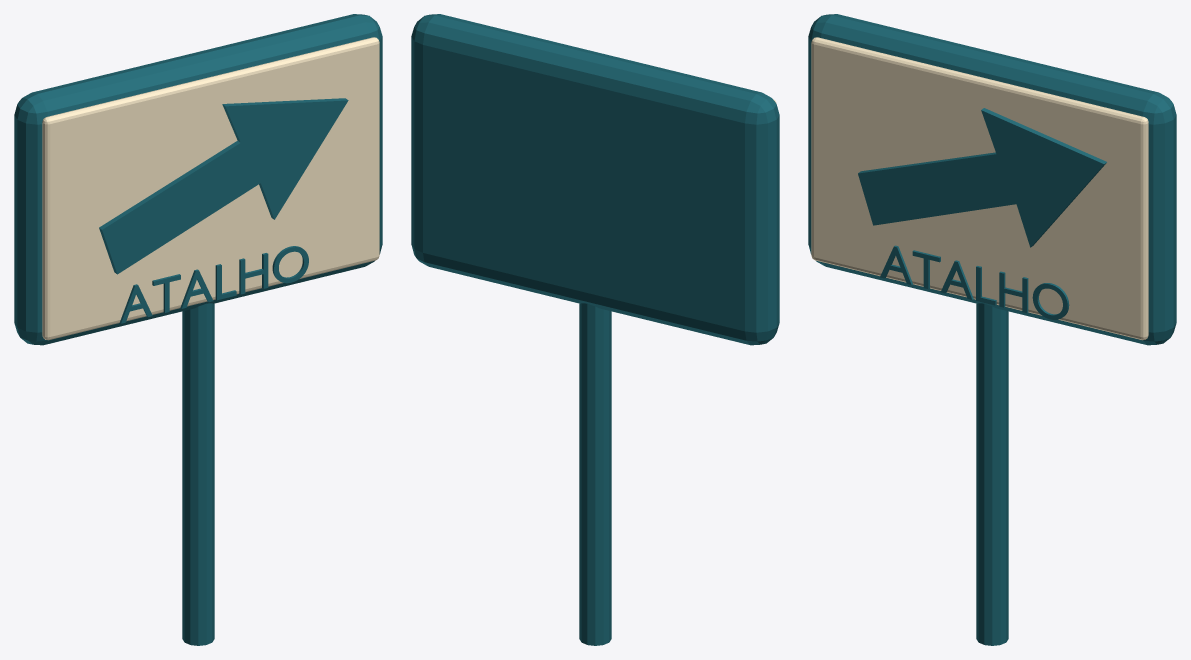
The model's file is race_sign_route.glb.
The picture shows the model from 3 angles, left to right: view 1: azimuth 30°, elevation 25°; view 2: azimuth 150°, elevation 25°; view 3: azimuth 330°, elevation 25°; orthographic projection.
Visible parts, largest first — view 1: race_sign_route; view 2: race_sign_route; view 3: race_sign_route.
Boxes of the visible parts, x1,y1,x2,y2 form: race_sign_route: (14, 14, 382, 645); race_sign_route: (411, 14, 779, 645); race_sign_route: (808, 14, 1176, 645).
Bounding box in the file's own units: 2.35 × 3.62 × 0.345.
